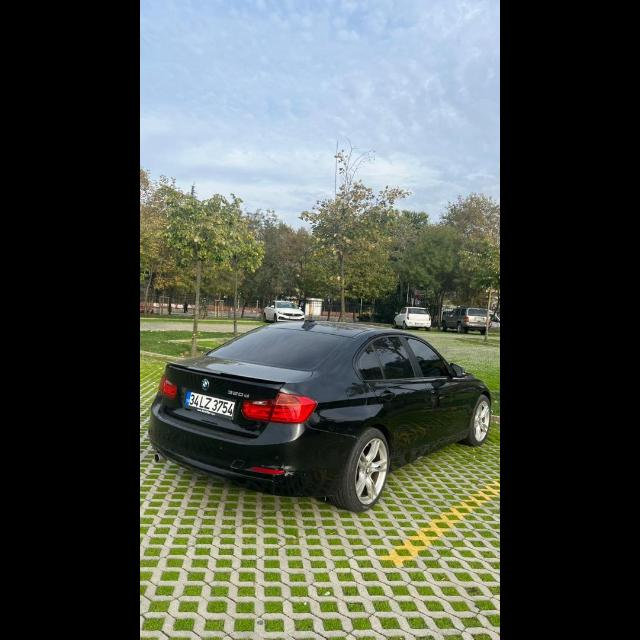Plaka: (186, 393, 234, 419)
